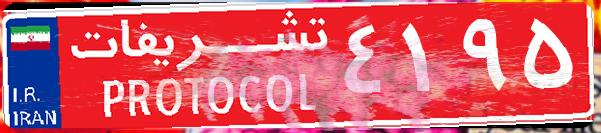1: (400, 20, 460, 115)
4: (340, 20, 400, 115)
5: (520, 20, 580, 115)
9: (460, 20, 520, 115)
تشریفات: (60, 8, 340, 125)
